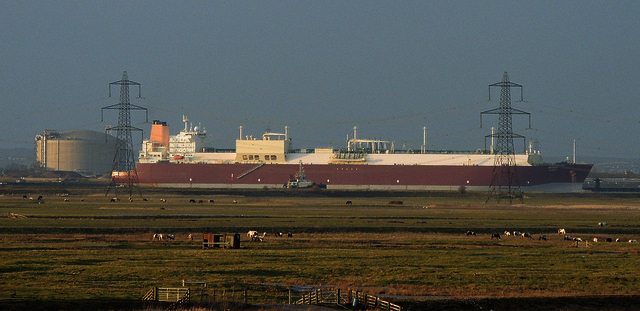LNG_ship: (115, 107, 592, 193)
tug_boat: (277, 159, 334, 187)
